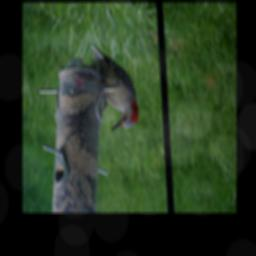Woodpecker: (90, 43, 138, 131)
